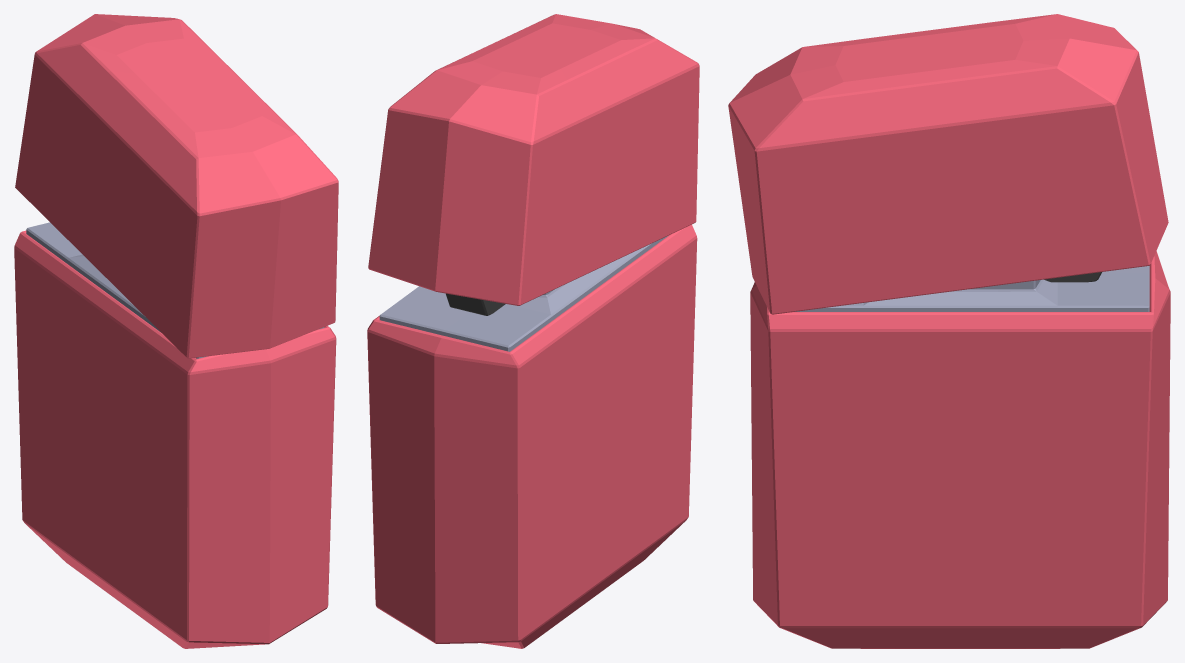
Rendered from Lighter.fbx.
The picture shows the model from 3 angles, left to right: view 1: azimuth 30°, elevation 25°; view 2: azimuth 150°, elevation 25°; view 3: azimuth 270°, elevation 25°; orthographic projection. The views are drawn at different scales.
Visible parts, largest first — view 1: Lighter Lid Closed; view 2: Lighter Lid Closed; view 3: Lighter Lid Closed.
Boxes of the visible parts, box(x1,y1,x2,y2) form: Lighter Lid Closed: box(14, 14, 338, 648); Lighter Lid Closed: box(367, 14, 699, 648); Lighter Lid Closed: box(728, 14, 1170, 648).
Size of the model in its own units: 93.09 by 320 by 218.
